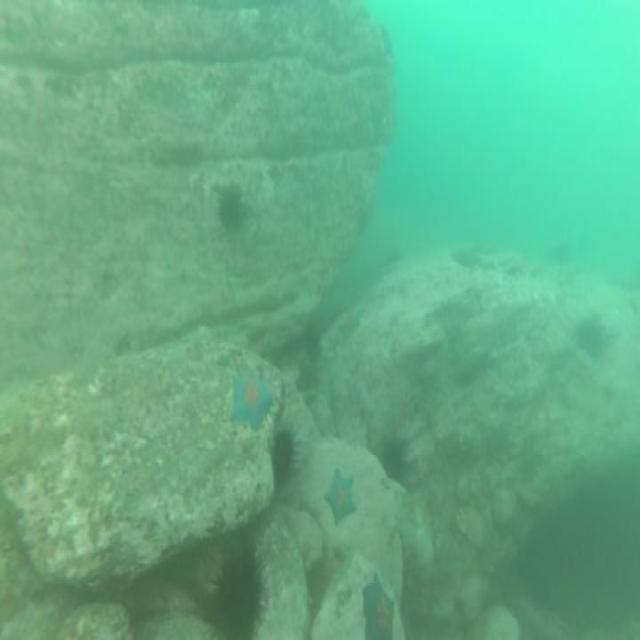echinus: (208, 547, 269, 640), (215, 180, 246, 242), (273, 424, 299, 493), (574, 313, 608, 365), (377, 436, 410, 487), (546, 237, 573, 270)
starfish: (226, 368, 276, 438), (360, 572, 397, 640), (324, 466, 359, 526), (335, 304, 367, 348)
